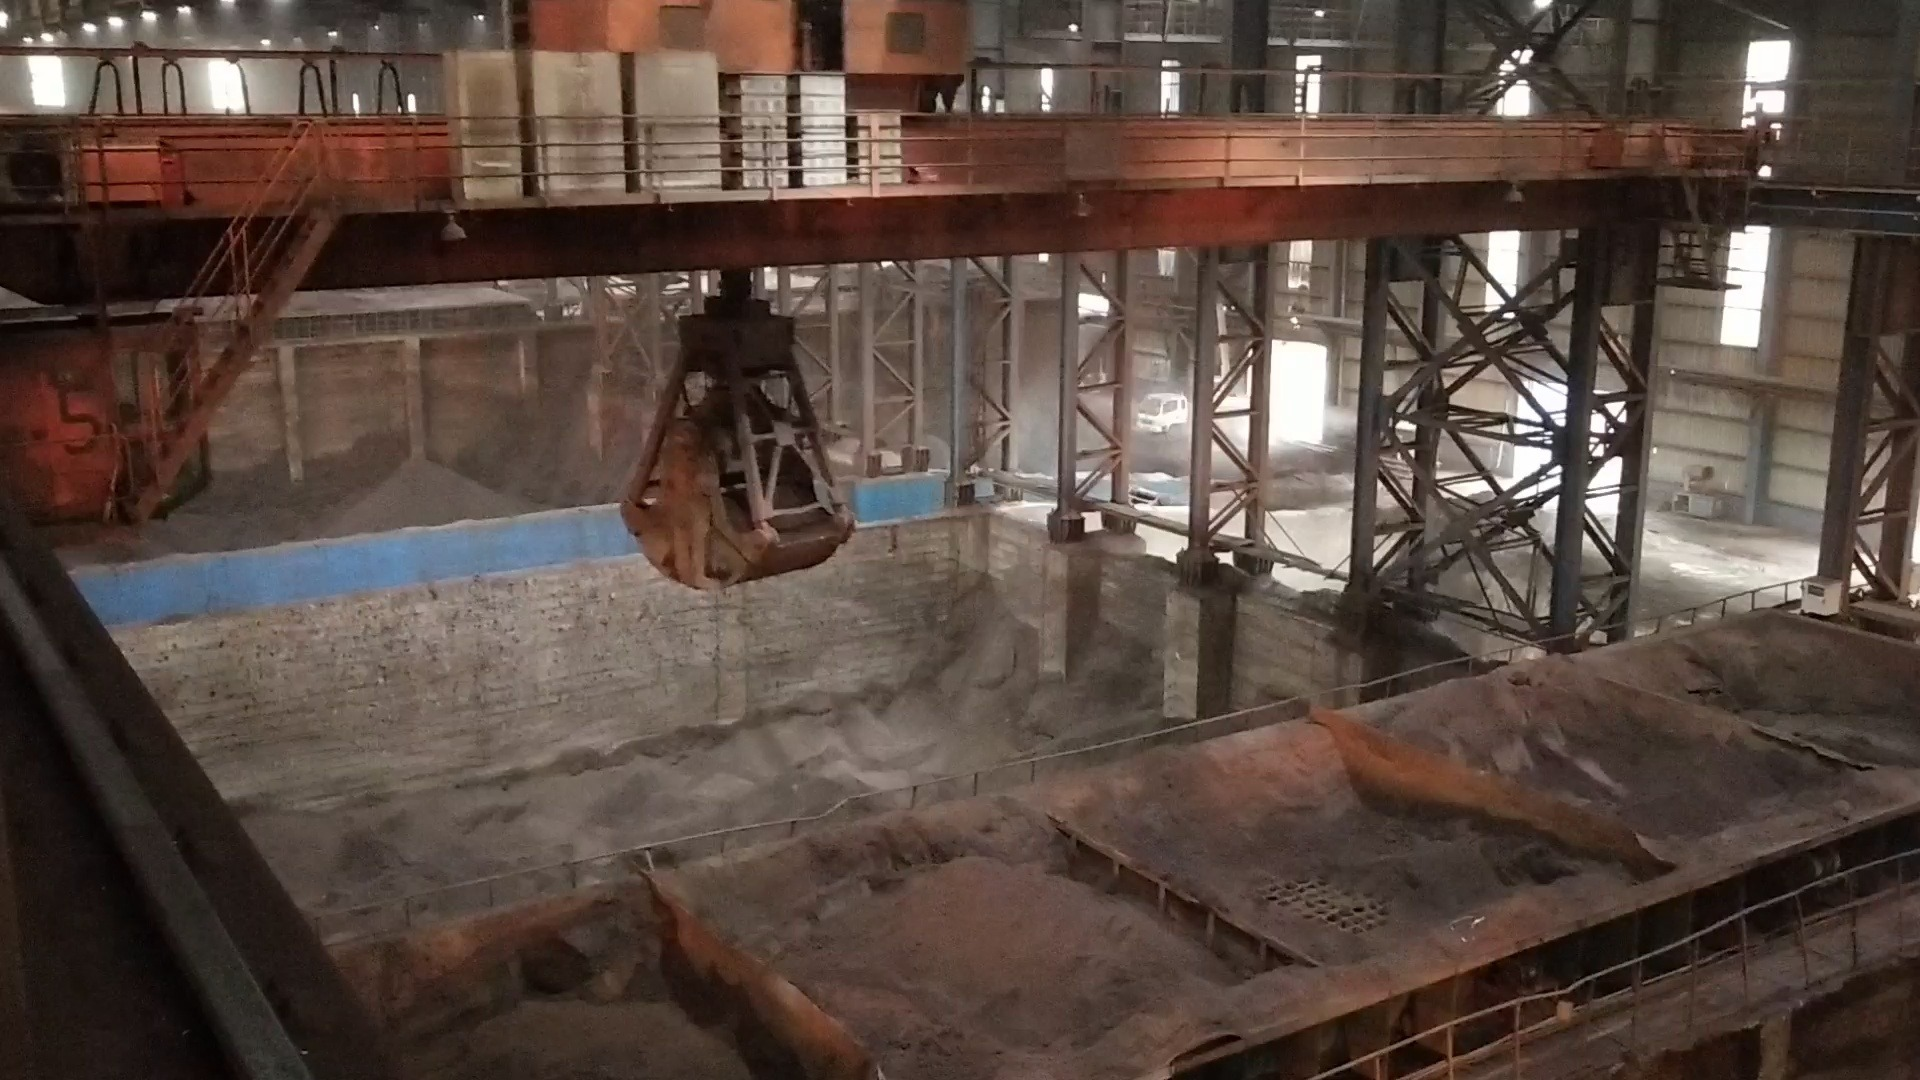dust: (1011, 324, 1362, 468)
grab: (612, 260, 862, 596)
